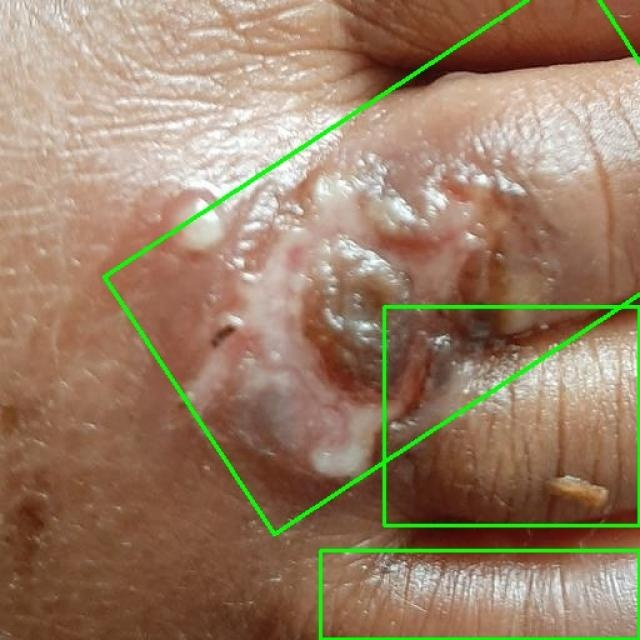Eczema: (104, 0, 640, 543), (384, 306, 639, 525), (320, 550, 639, 639)
